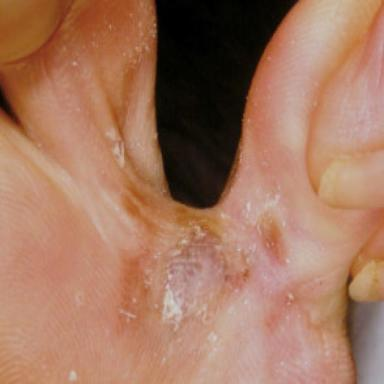Melanoma: (118, 184, 249, 334), (257, 212, 288, 264)
